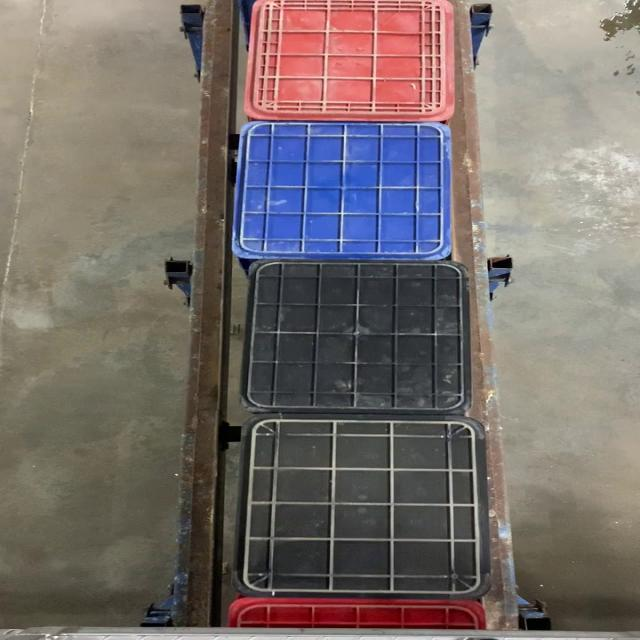Box: (237, 416, 492, 598), (240, 262, 472, 414), (232, 122, 451, 262), (247, 0, 456, 122)
